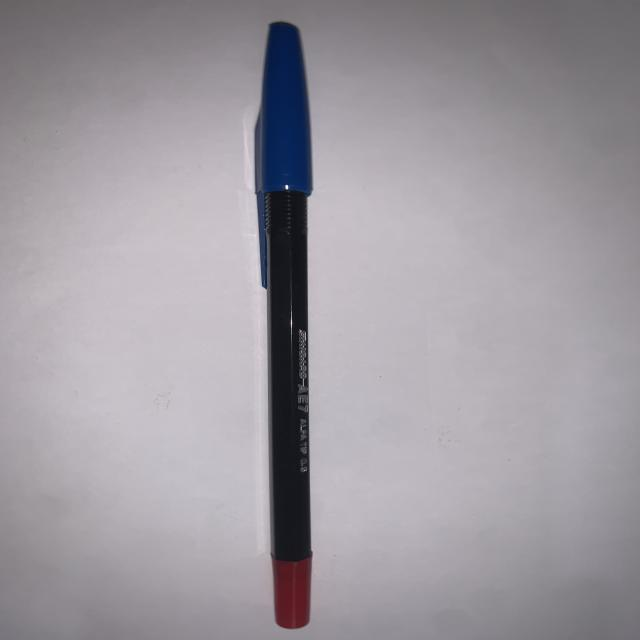Pulpen: (234, 11, 339, 640)
